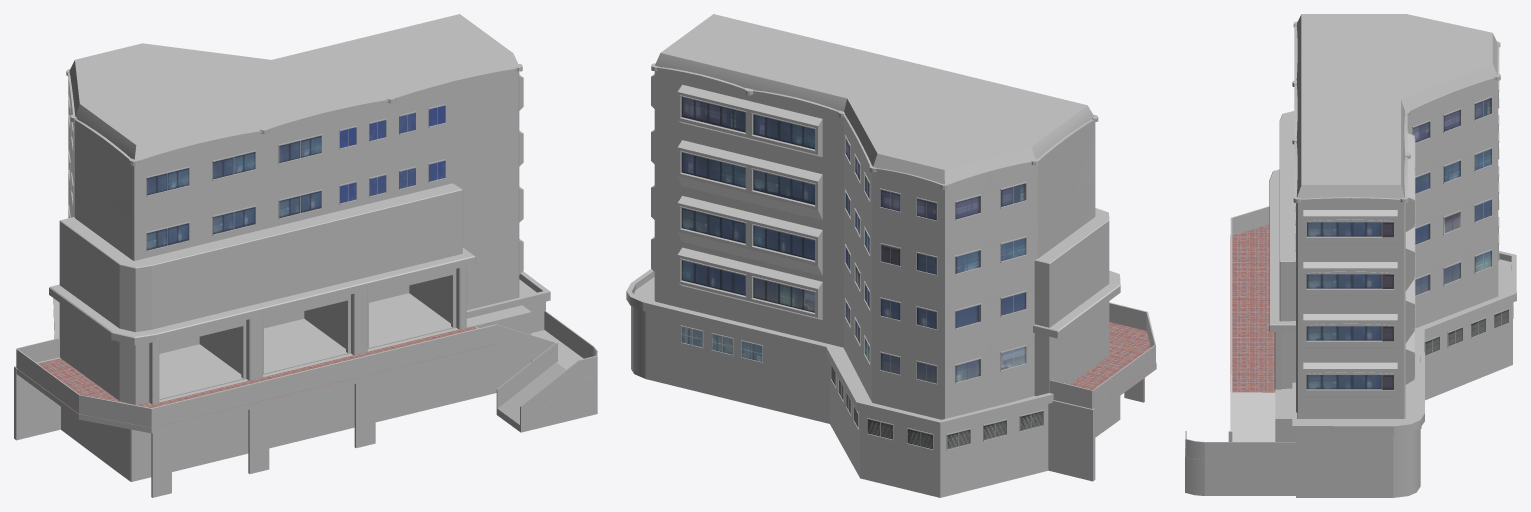
Rendered from bldg_mall_11a.fbx.
The picture shows the model from 3 angles, left to right: view 1: azimuth 30°, elevation 25°; view 2: azimuth 150°, elevation 25°; view 3: azimuth 270°, elevation 25°; orthographic projection. The views are drawn at different scales.
Parts seen in each view (by area): view 1: bldg_mall_11a; view 2: bldg_mall_11a; view 3: bldg_mall_11a.
Boxes of the visible parts, x1,y1,x2,y2 form: bldg_mall_11a: (14, 14, 597, 497); bldg_mall_11a: (626, 14, 1156, 497); bldg_mall_11a: (1185, 14, 1516, 497).
Bounding box in the file's own units: 29.1 × 18.86 × 18.94.
